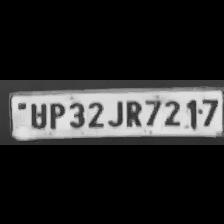1: (182, 96, 200, 128)
2: (160, 96, 184, 128), (84, 98, 104, 128)
3: (65, 100, 85, 128)
7: (197, 96, 219, 128), (142, 98, 162, 127)
J: (106, 97, 122, 127)
P: (45, 100, 65, 128)
R: (122, 96, 142, 128)
U: (26, 100, 48, 128)
